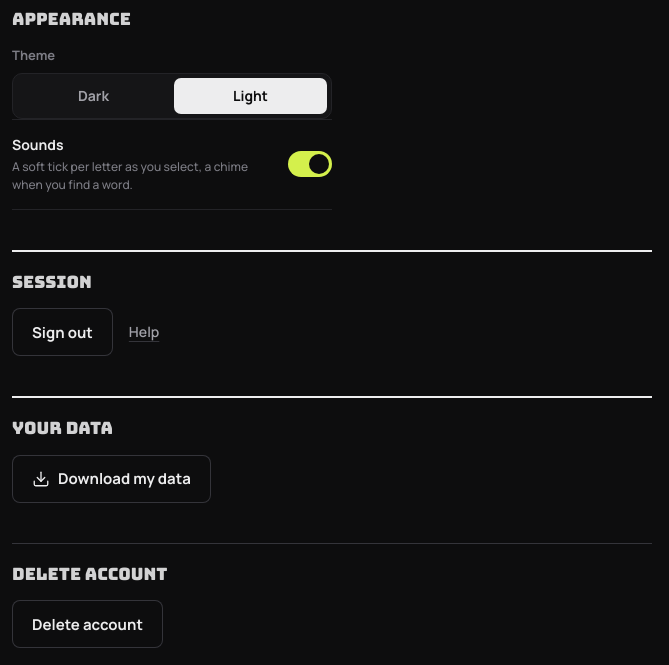
Scenario: Download my data › a failure says so, and the button works again
(page scrolled)
Click the button "Download my data" at (111, 479), box [12, 455, 211, 503]
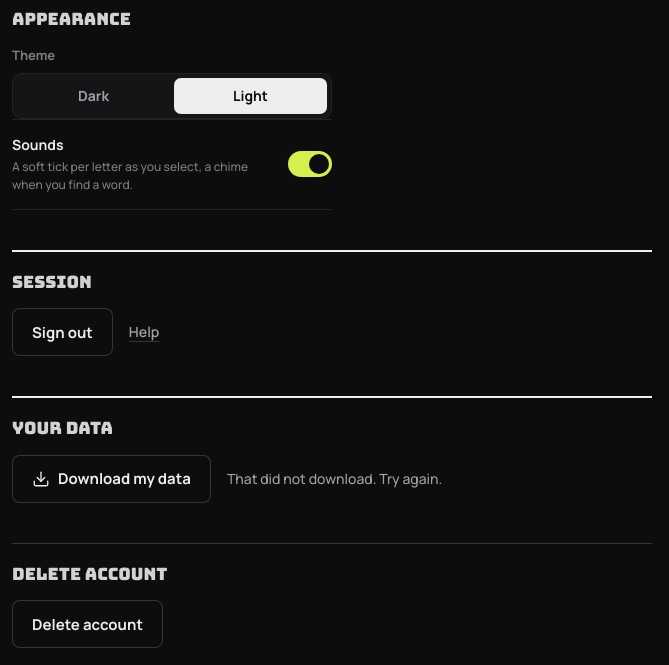
Now the message reads "That did not download. Try again.", box [227, 469, 442, 488]
